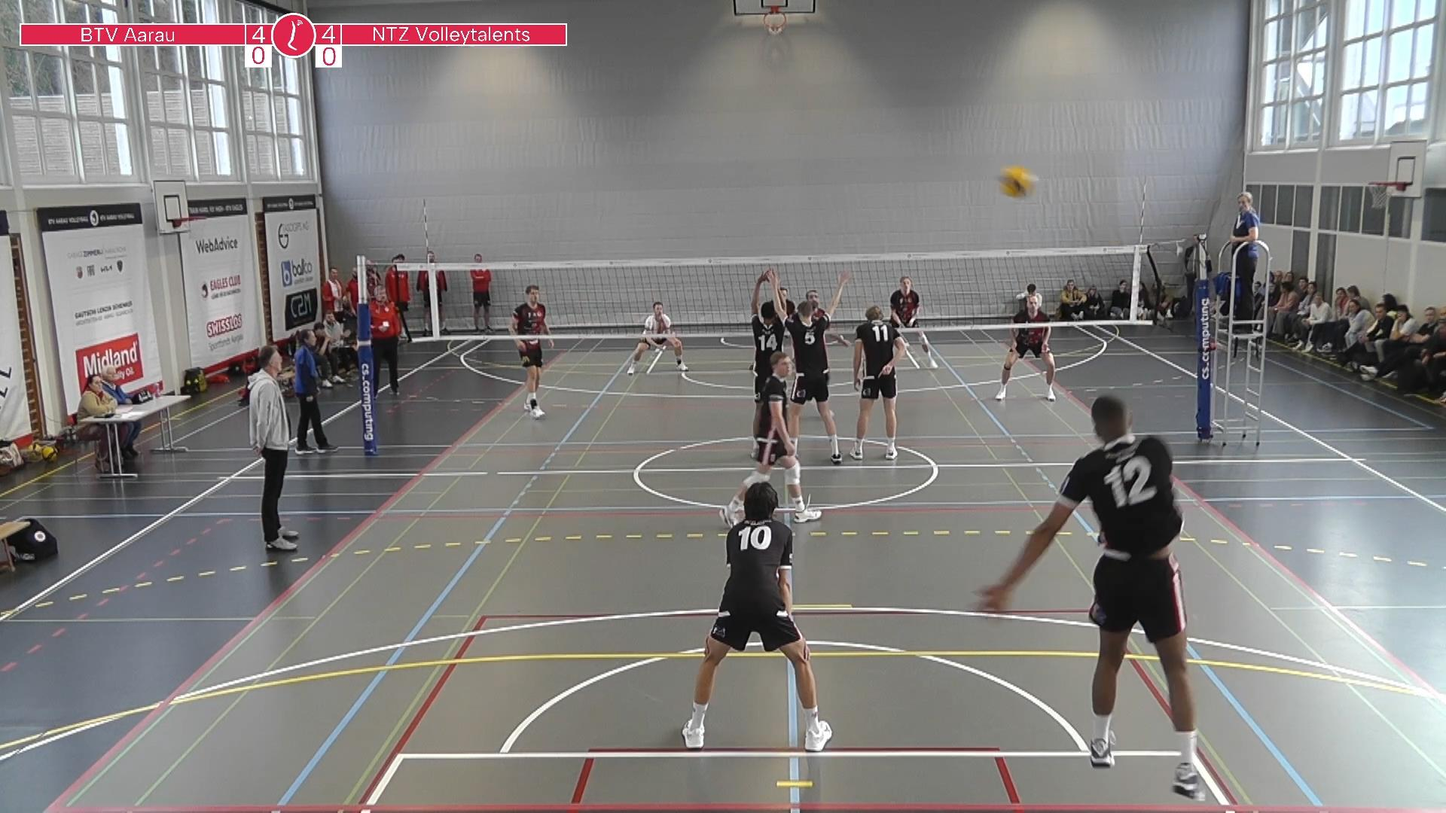battuta: (973, 392, 1215, 802)
